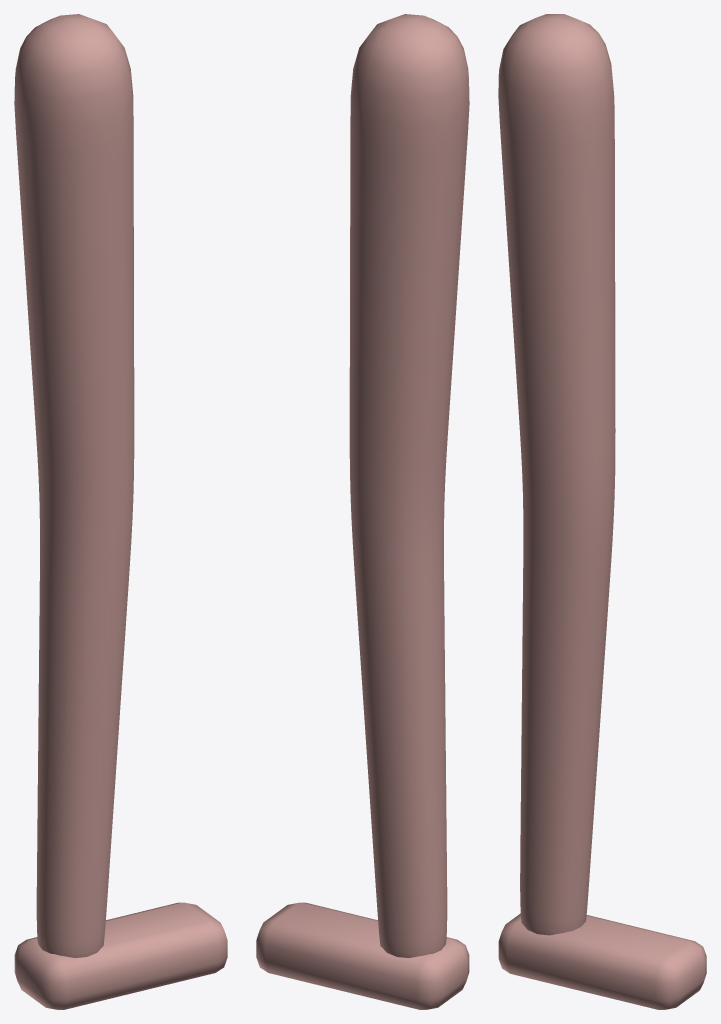
File: SM_SkinStealer_Leg.fbx
3 renders of one model, left to right at view 1: azimuth 30°, elevation 25°; view 2: azimuth 150°, elevation 25°; view 3: azimuth 330°, elevation 25°, orthographic. The views are drawn at different scales.
Parts seen in each view (by area): view 1: SM_SkinStealer_Leg; view 2: SM_SkinStealer_Leg; view 3: SM_SkinStealer_Leg.
Boxes of the visible parts, box(x1,y1,x2,y2) form: SM_SkinStealer_Leg: box(14, 14, 227, 1009); SM_SkinStealer_Leg: box(256, 14, 469, 1009); SM_SkinStealer_Leg: box(498, 14, 706, 1009).
Bounding box in the file's own units: 22.73 × 111 × 12.18.
